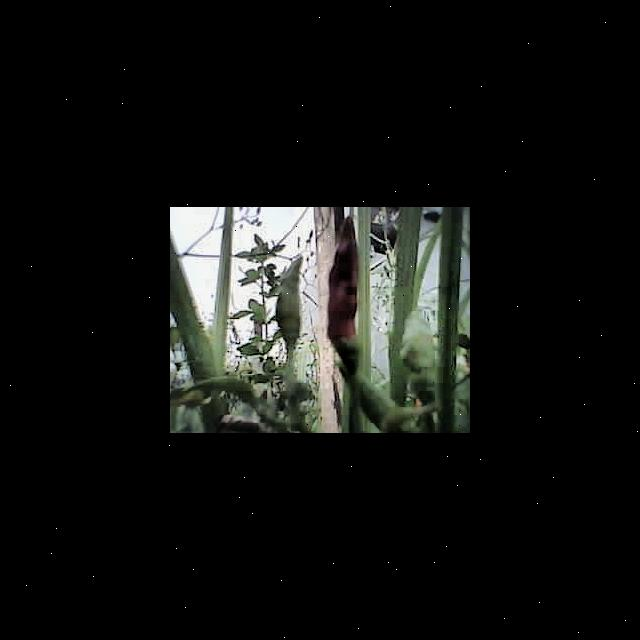Cabai: (321, 218, 385, 334)
